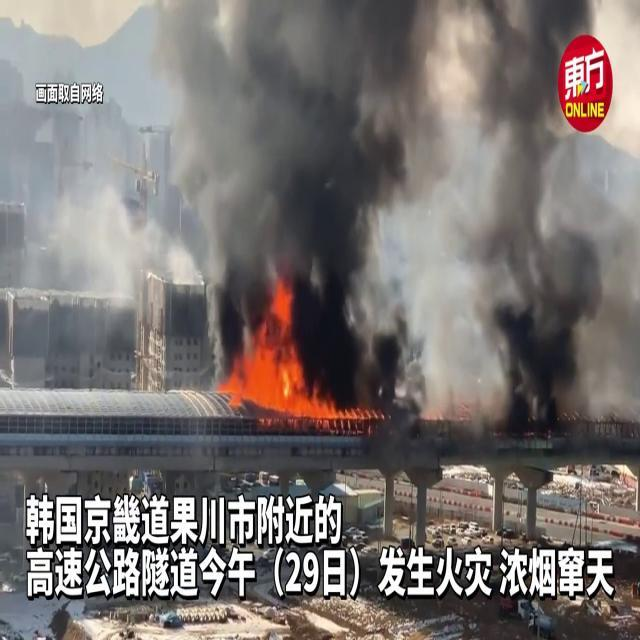Fire: (221, 295, 310, 418), (301, 388, 376, 427)
Smoke: (116, 1, 447, 397), (387, 0, 640, 435)
